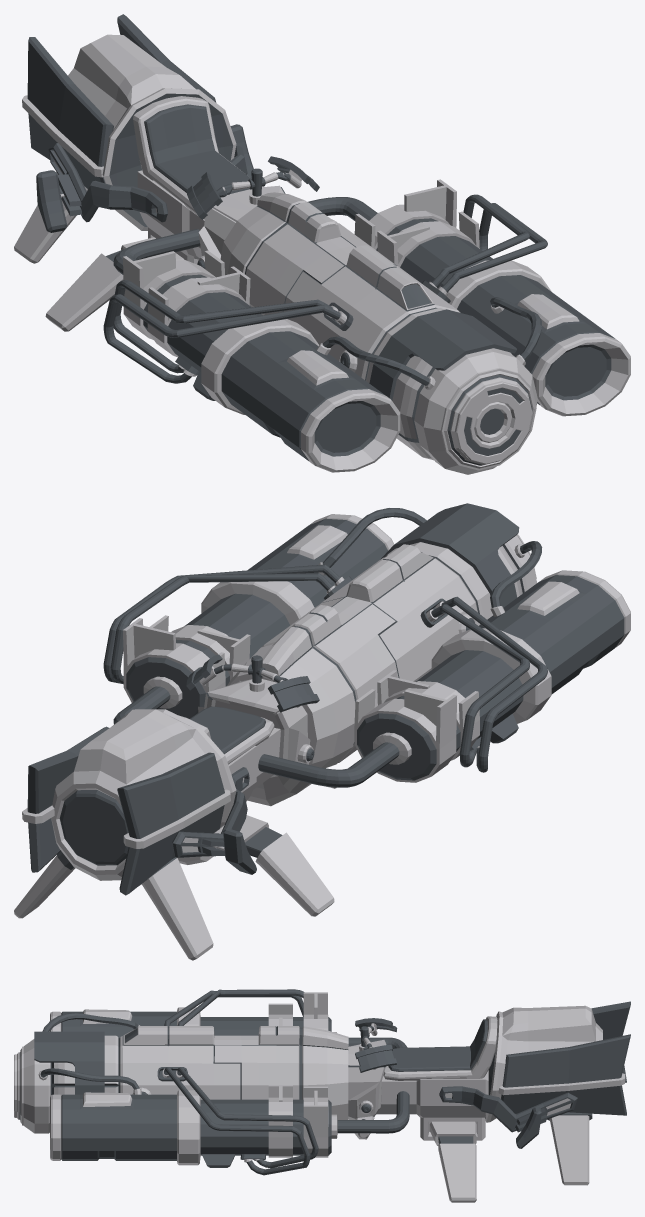
The model's file is Personal_Vehicle_04_Neutral.fbx.
The picture shows the model from 3 angles, top to bottom: view 1: azimuth 30°, elevation 25°; view 2: azimuth 150°, elevation 25°; view 3: azimuth 270°, elevation 25°; orthographic projection. The views are drawn at different scales.
Visible parts, largest first — view 1: Personal_Vehicle_04_Neutral; view 2: Personal_Vehicle_04_Neutral; view 3: Personal_Vehicle_04_Neutral.
Part boxes in pixels (<box>): Personal_Vehicle_04_Neutral: <box>14,14,630,474</box>; Personal_Vehicle_04_Neutral: <box>14,503,630,960</box>; Personal_Vehicle_04_Neutral: <box>14,989,630,1202</box>.
Bounding box in the file's own units: 233 × 115 × 439.
2 materials, 2 textured.
